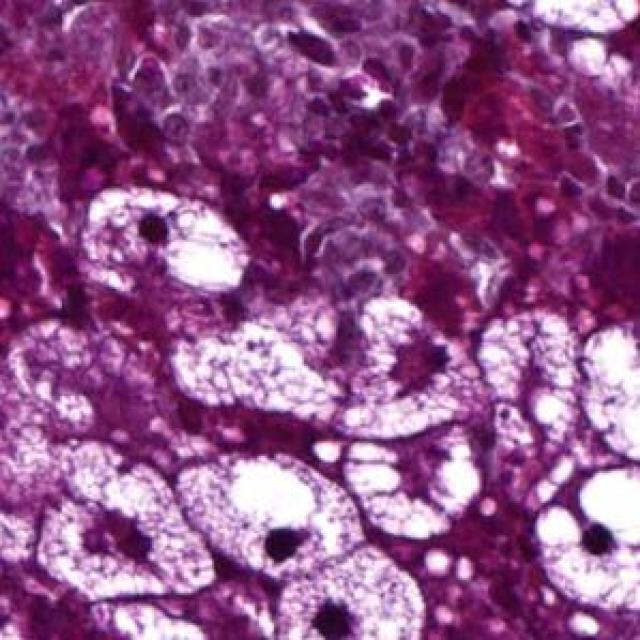ballooning: (169, 446, 373, 584), (81, 180, 257, 306), (340, 418, 488, 542), (528, 464, 640, 618), (573, 310, 640, 470)
